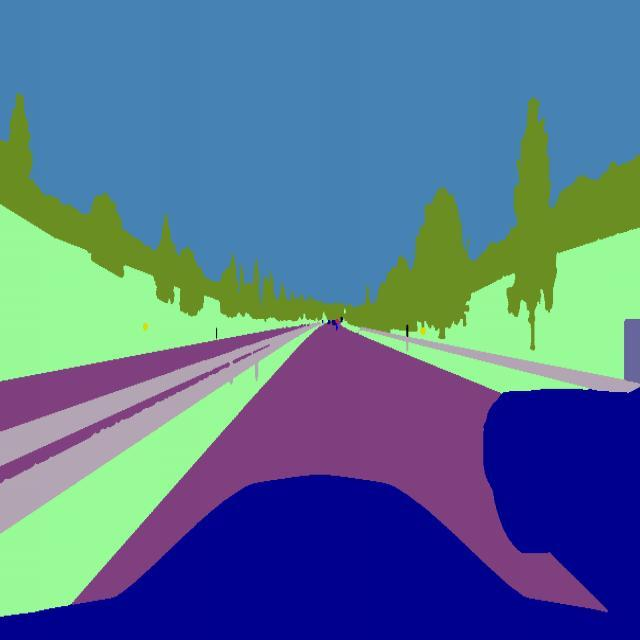unsafe: (482, 379, 640, 639)
